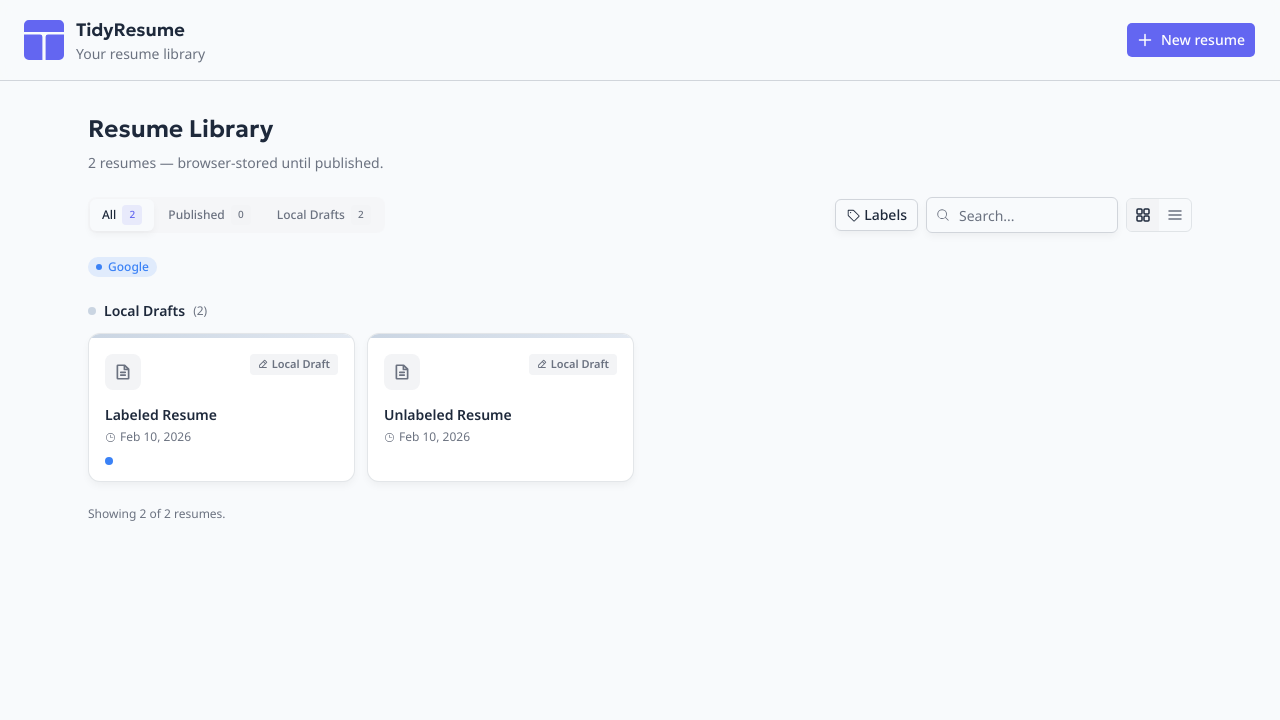
Scenario: ResumeLibrary (labels) › clears label filter when the same chip is clicked again
The width and height of the screenshot is (1280, 720).
Note: Toggle on
What coordinates should you click on to do the following:
click the button "Google"
I would click on:
 (122, 267)
Its box is top-left (88, 257), bottom-right (157, 277).
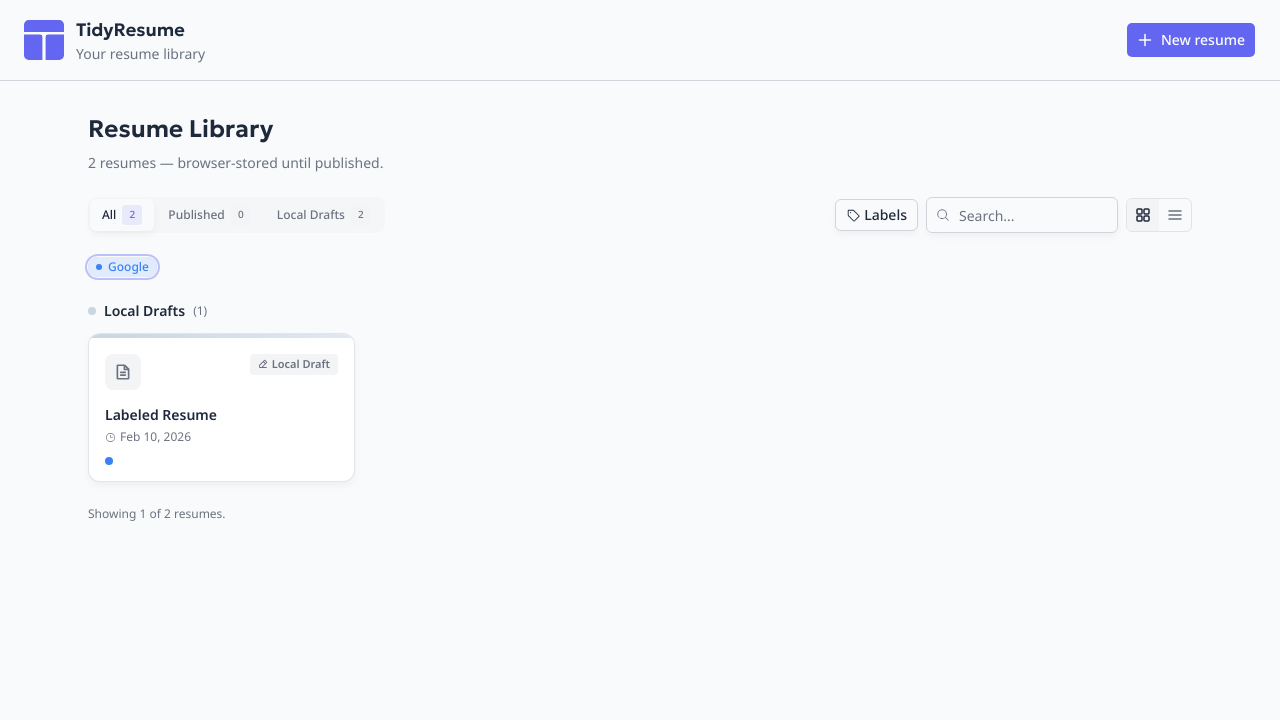
Expected: the button "Unlabeled Resume" is gone
Note: Toggle off
What coordinates should you click on to do the following:
click the button "Google"
I would click on:
 (122, 267)
Its box is top-left (88, 257), bottom-right (157, 277).
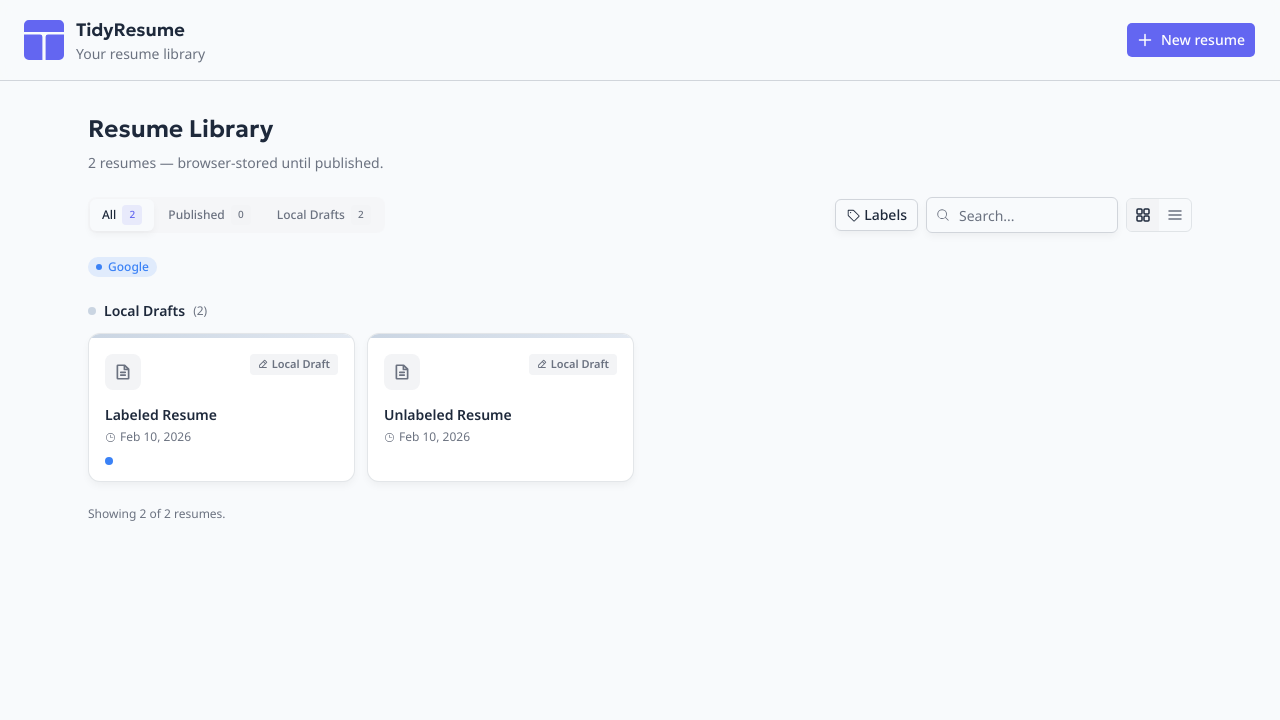
Expected: the button "Unlabeled Resume" is shown, top-left (384, 405), bottom-right (617, 425)
